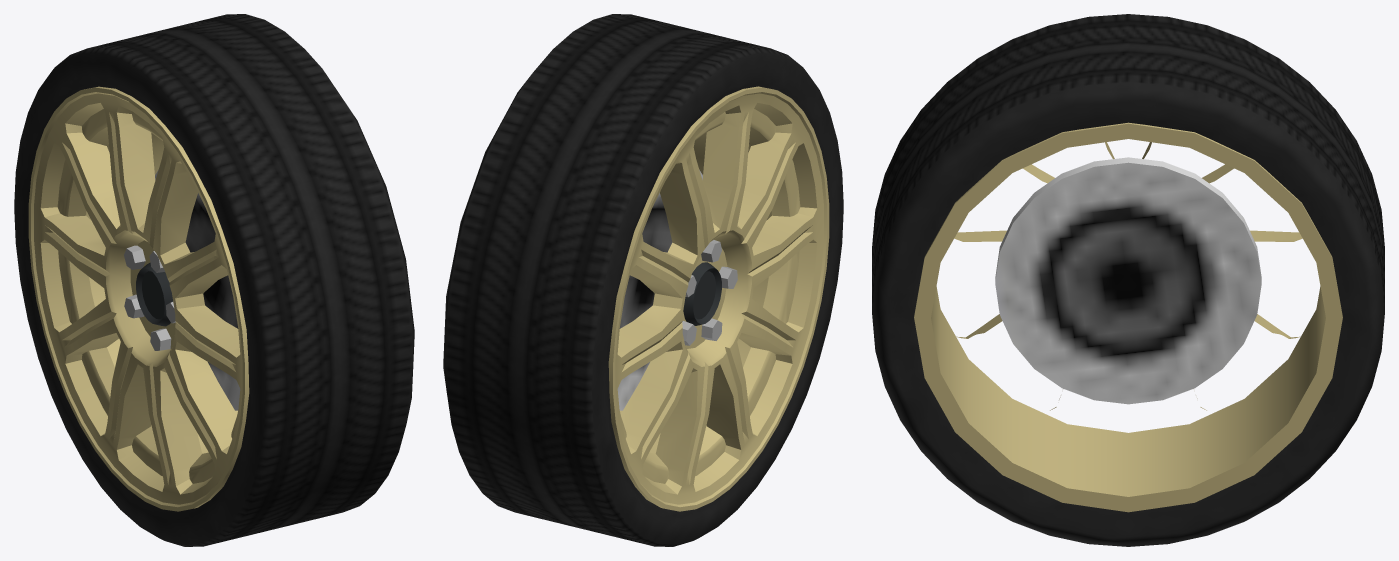
The model's file is wheel-left.gltf.
3 views of the same model, side by side, from view 1: azimuth 30°, elevation 25°; view 2: azimuth 150°, elevation 25°; view 3: azimuth 270°, elevation 25° (orthographic).
Size of the model in its own units: 0.2354 by 0.662 by 0.662.
Materials: 5 (2 with a texture image).
